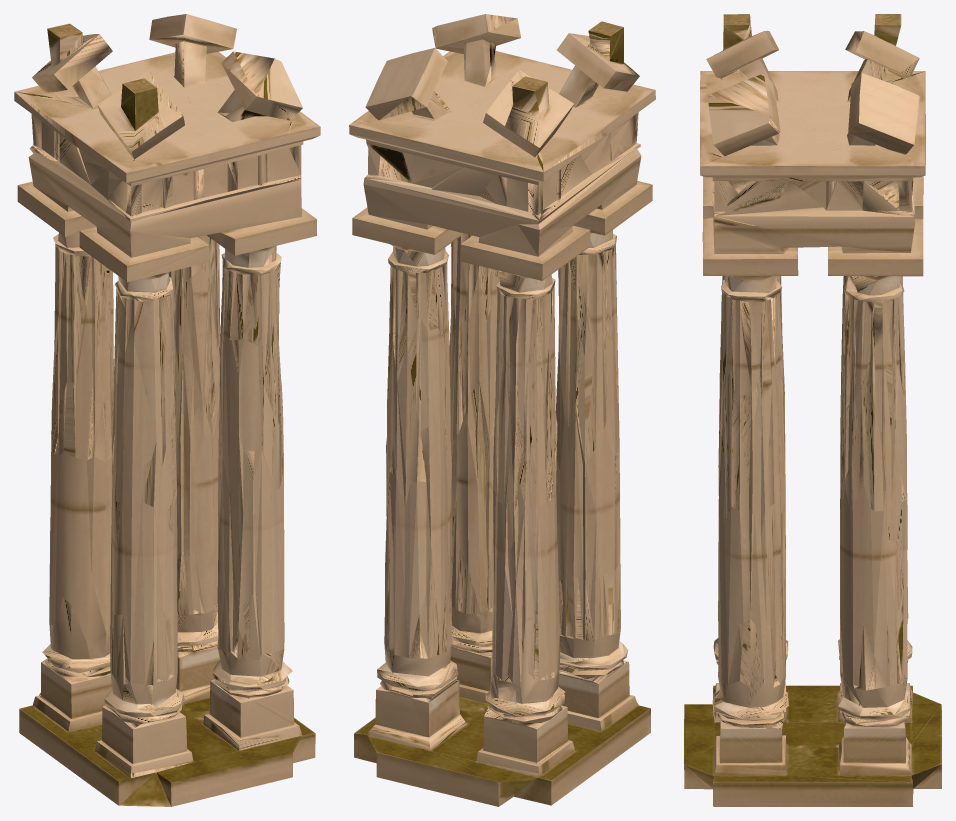
The model's file is cover_full_temple_v1.glb.
3 renders of one model, left to right at view 1: azimuth 30°, elevation 25°; view 2: azimuth 150°, elevation 25°; view 3: azimuth 270°, elevation 25°, orthographic.
Size of the model in its own units: 0.5563 by 1.9 by 0.6268.
Materials: 1 (1 with a texture image).
